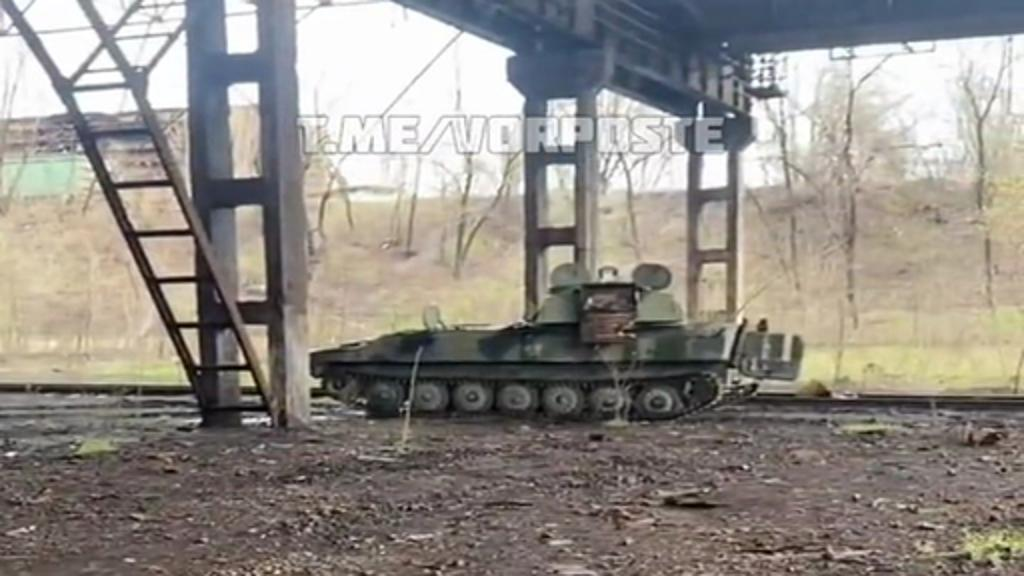ART: (310, 262, 800, 440)
